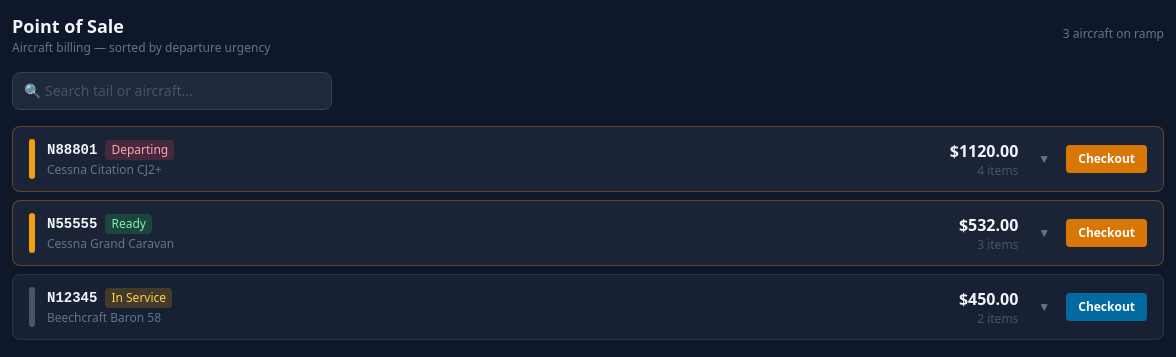
<POS /> — search › search by model filters bills
Type "Citation" into the field with placeholder "Search tail or aircraft…" at (172, 91), box x1=12 y1=72 x2=332 y2=110
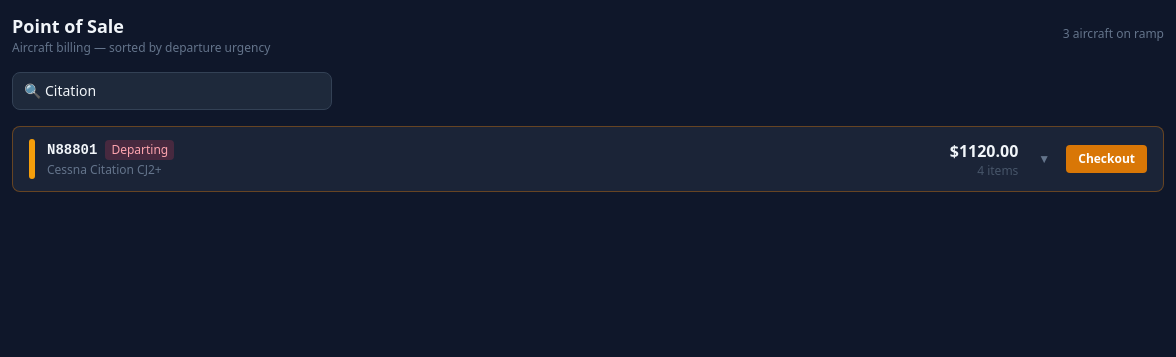
Expected: the text "N88801" is shown, x1=47 y1=140 x2=97 y2=160
Expected: the text "N12345" is gone
